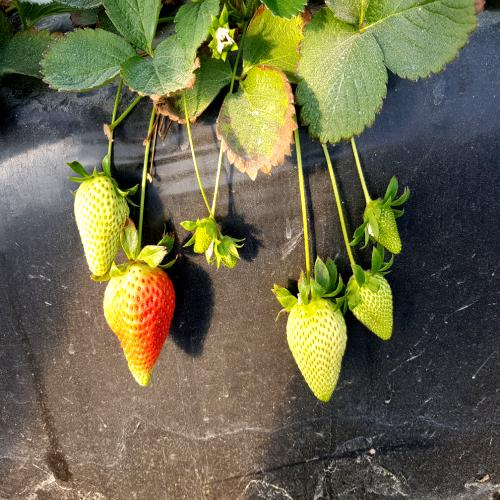partially-ripe: (107, 267, 182, 395)
unripe: (64, 159, 124, 299), (282, 294, 352, 406), (341, 260, 401, 346), (356, 192, 409, 274)
